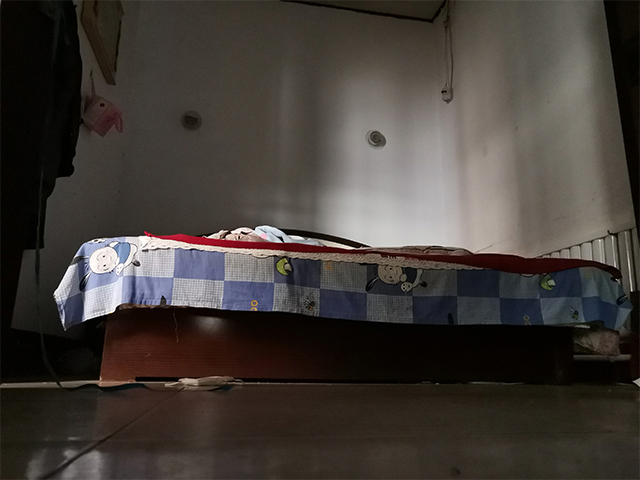bed: (51, 223, 638, 387)
